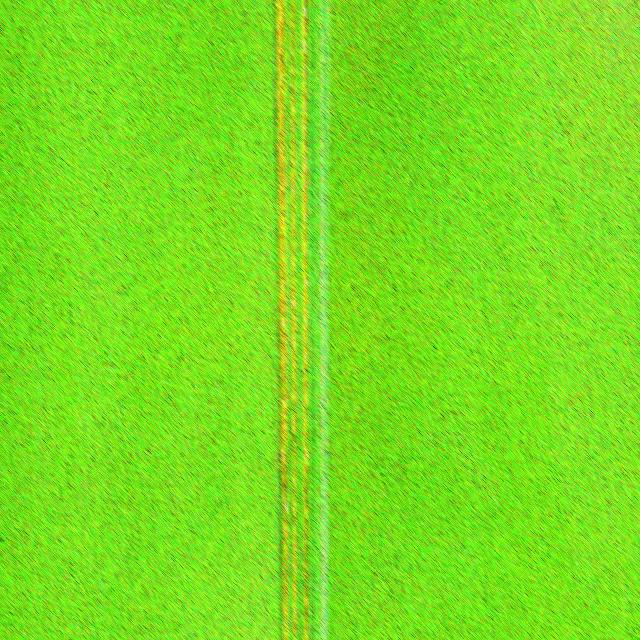BLS: (275, 0, 287, 640), (290, 0, 296, 640), (303, 0, 308, 640)
